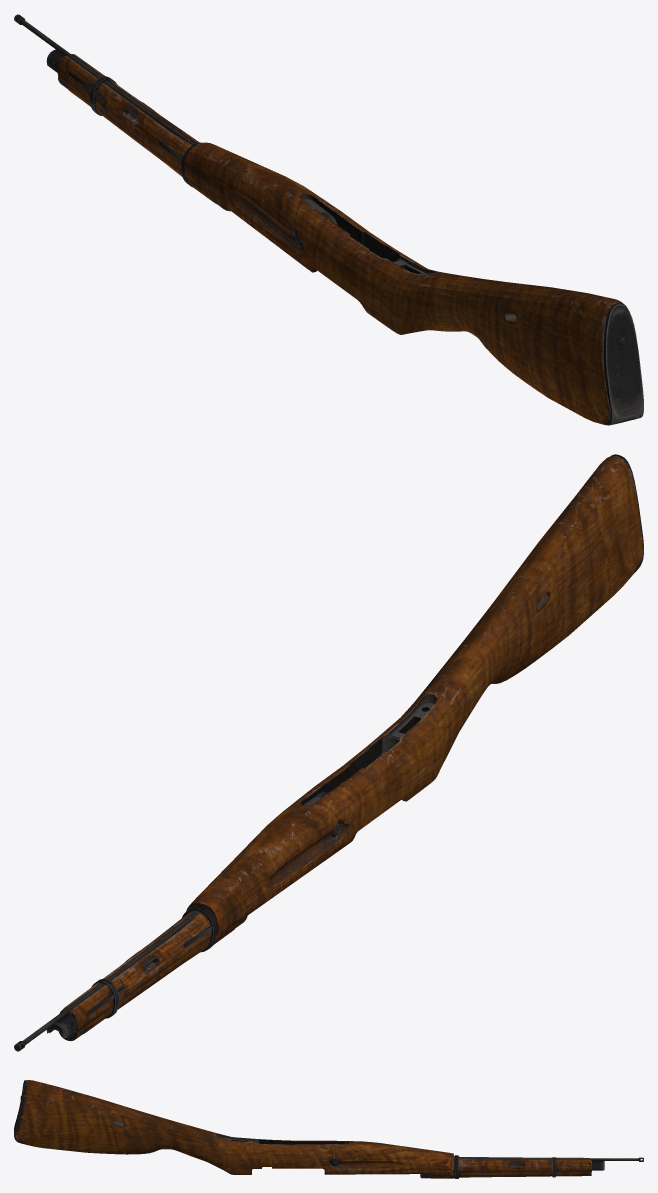
3 views of the same model, one above another, from view 1: azimuth 30°, elevation 25°; view 2: azimuth 150°, elevation 25°; view 3: azimuth 270°, elevation 25° (orthographic). The views are drawn at different scales.
Visible parts, largest first — view 1: TW_5bfd37c80db834001d23e842_PZ_Import; view 2: TW_5bfd37c80db834001d23e842_PZ_Import; view 3: TW_5bfd37c80db834001d23e842_PZ_Import.
Part boxes in pixels (left/top/right/bottom): TW_5bfd37c80db834001d23e842_PZ_Import: left=14, top=14, right=643, bottom=425; TW_5bfd37c80db834001d23e842_PZ_Import: left=14, top=454, right=643, bottom=1051; TW_5bfd37c80db834001d23e842_PZ_Import: left=14, top=1080, right=643, bottom=1178.
Size of the model in its own units: 0.0254 by 0.5892 by 0.1006.
1 material, 1 textured.
